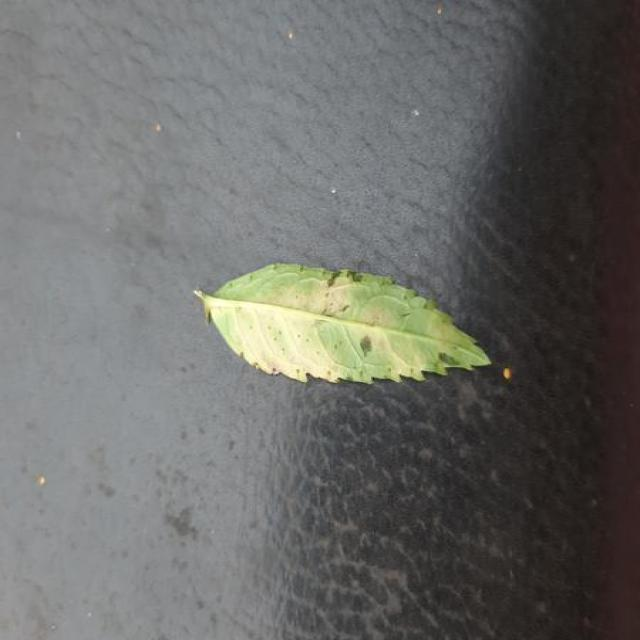leaf spot: (195, 264, 490, 383)
marigold: (195, 264, 490, 383)
